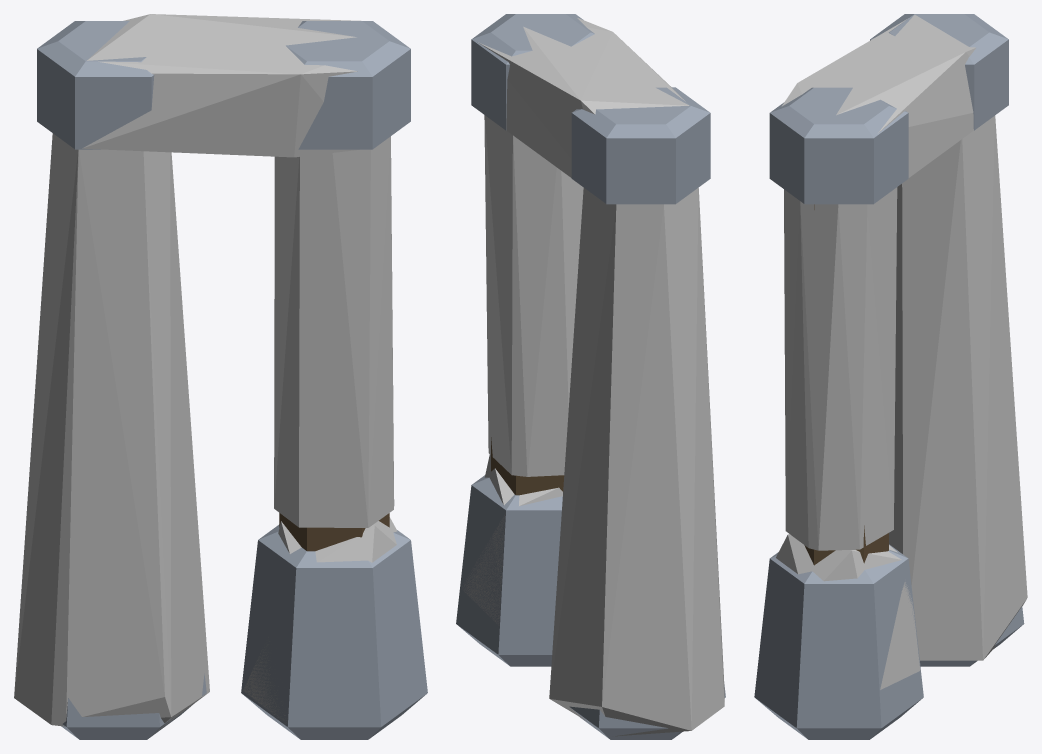
File: SM_Prop_Signal_Horn_01_polySurface1503.fbx
3 views of the same model, side by side, from view 1: azimuth 30°, elevation 25°; view 2: azimuth 150°, elevation 25°; view 3: azimuth 270°, elevation 25° (orthographic). The views are drawn at different scales.
Parts seen in each view (by area): view 1: SM_Prop_Signal_Horn_01_polySurface1503_ConvexHulls, SM_Prop_Signal_Horn_01_polySurface1503; view 2: SM_Prop_Signal_Horn_01_polySurface1503_ConvexHulls, SM_Prop_Signal_Horn_01_polySurface1503; view 3: SM_Prop_Signal_Horn_01_polySurface1503_ConvexHulls, SM_Prop_Signal_Horn_01_polySurface1503.
Boxes of the visible parts, x1,y1,x2,y2 form: SM_Prop_Signal_Horn_01_polySurface1503_ConvexHulls: [14, 14, 397, 734]; SM_Prop_Signal_Horn_01_polySurface1503: [37, 21, 427, 739]; SM_Prop_Signal_Horn_01_polySurface1503_ConvexHulls: [462, 18, 724, 736]; SM_Prop_Signal_Horn_01_polySurface1503: [456, 14, 725, 739]; SM_Prop_Signal_Horn_01_polySurface1503_ConvexHulls: [776, 15, 1027, 689]; SM_Prop_Signal_Horn_01_polySurface1503: [754, 14, 1024, 739].
Size of the model in its own units: 25.82 by 21.48 by 53.37.
2 materials, 1 textured.
